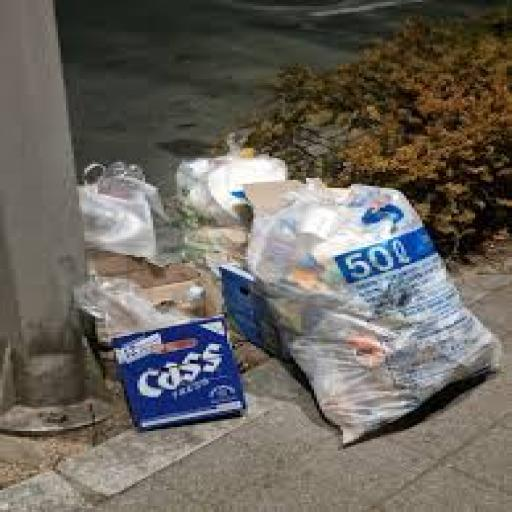paper: (90, 250, 243, 433)
vinyl: (246, 188, 504, 444), (81, 151, 292, 245)
